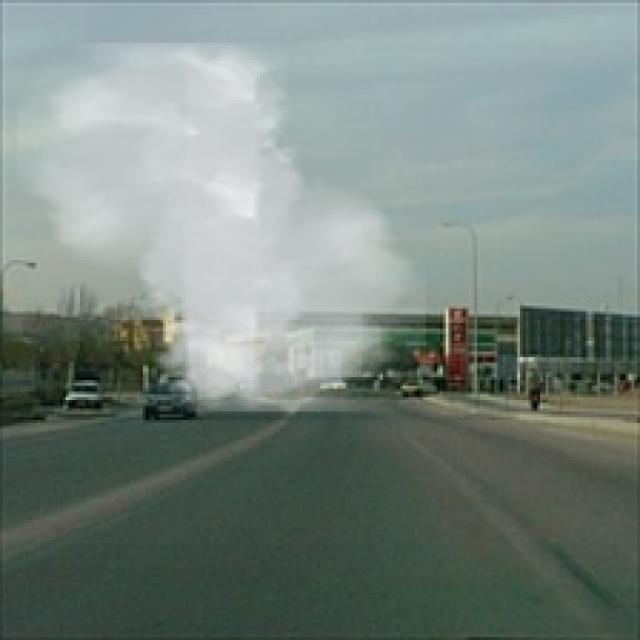smoke: (17, 43, 426, 411)
